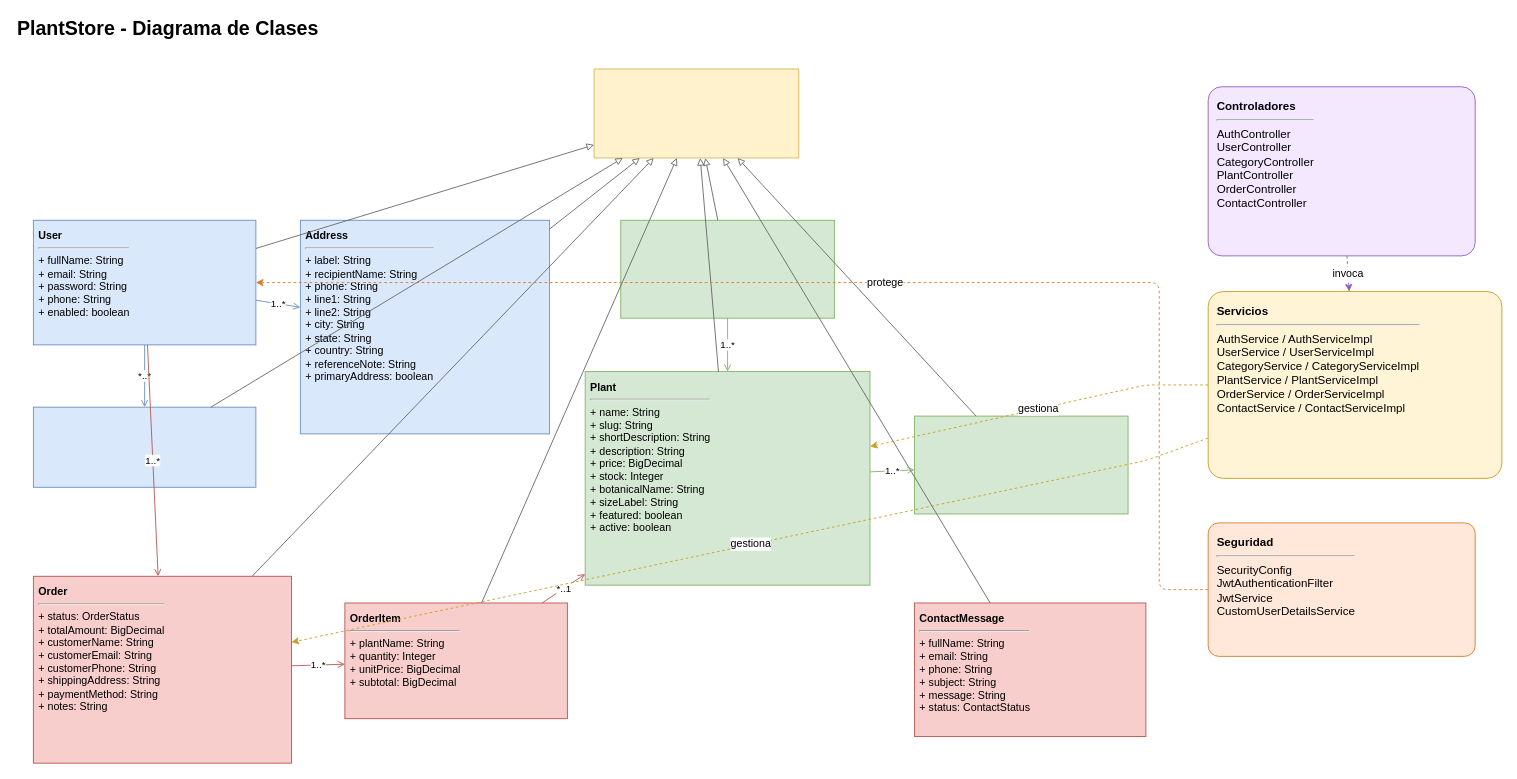
Some shapes in this 1517 by 779 pixel diagram are drawn without their labels. The shapes that lost their labels are listed below. From the top down, each one's centre as x and y in pixels, then its label:
point 696,113: BaseEntity + id: Long + createdAt: LocalDateTime + updatedAt: LocalDateTime
point 727,268: Category + name: String + slug: String + description: String + active: boolean
point 144,446: Role + name: RoleName + description: String
point 1021,464: PlantImage + fileName: String + fileUrl: String + primaryImage: boolean
